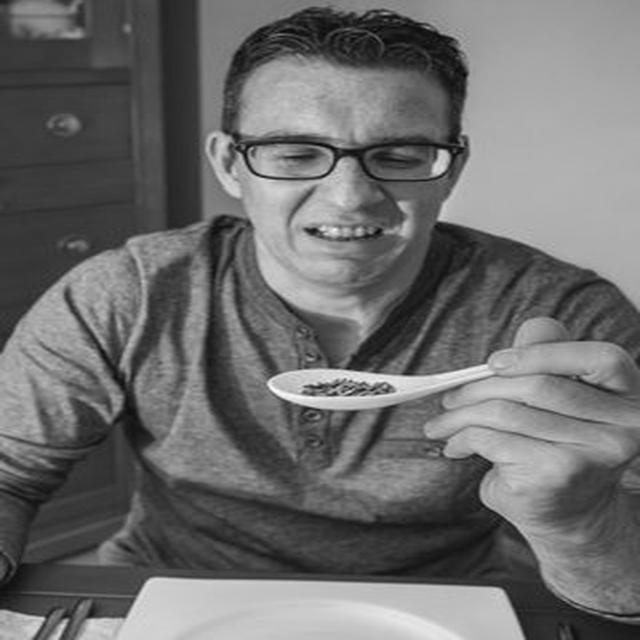Disgust: (236, 58, 460, 292)
